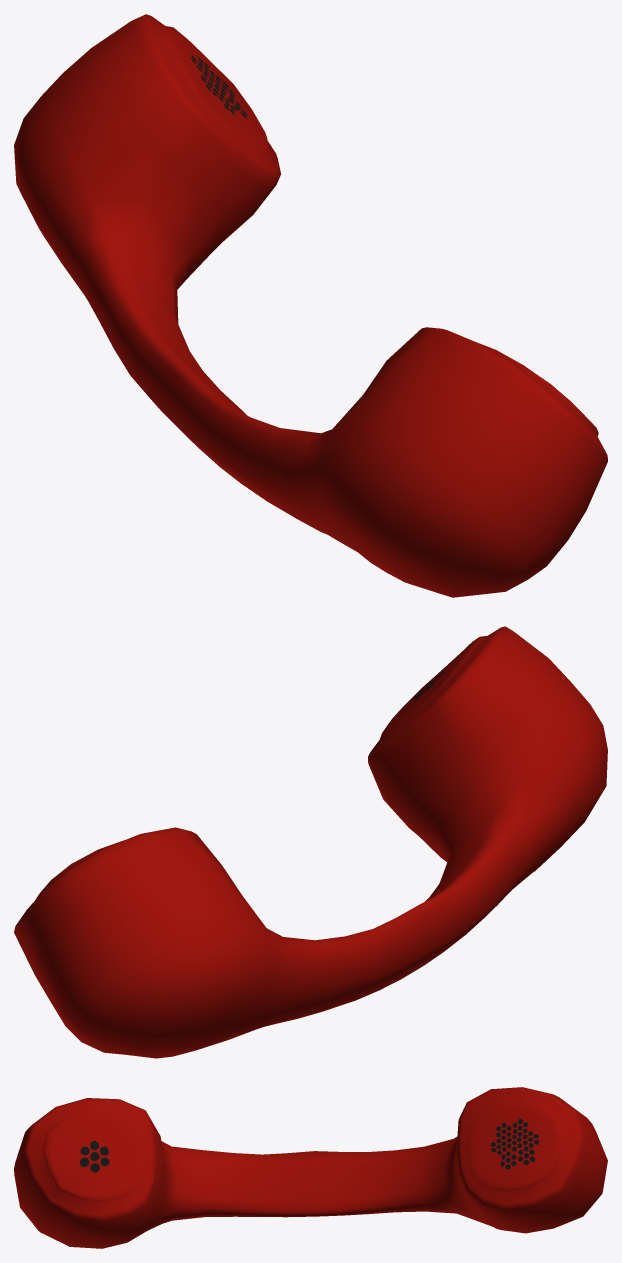
The model's file is phone.glb.
3 views of the same model, one above another, from view 1: azimuth 30°, elevation 25°; view 2: azimuth 150°, elevation 25°; view 3: azimuth 270°, elevation 25° (orthographic). The views are drawn at different scales.
Visible parts, largest first — view 1: Phone_Head; view 2: Phone_Head; view 3: Phone_Head.
Boxes of the visible parts, left/top/right/bottom form: Phone_Head: left=14, top=14, right=607, bottom=597; Phone_Head: left=14, top=626, right=607, bottom=1058; Phone_Head: left=14, top=1087, right=607, bottom=1248.
Bounding box in the file's own units: 0.0897 × 0.0863 × 0.2765.
1 material, 1 textured.
